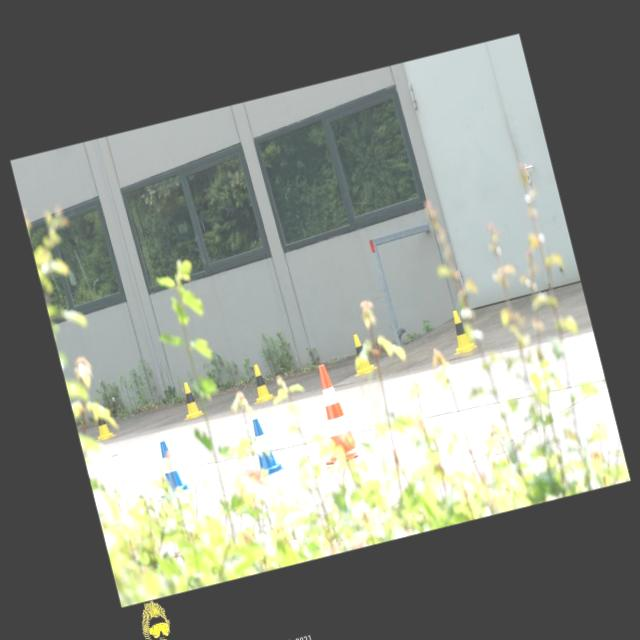blue_cone: (146, 437, 192, 498), (245, 414, 287, 476)
large_orange_cone: (301, 360, 361, 466)
yellow_cone: (444, 307, 478, 355), (344, 330, 378, 376), (175, 379, 206, 419), (246, 362, 276, 402), (92, 414, 116, 442)
